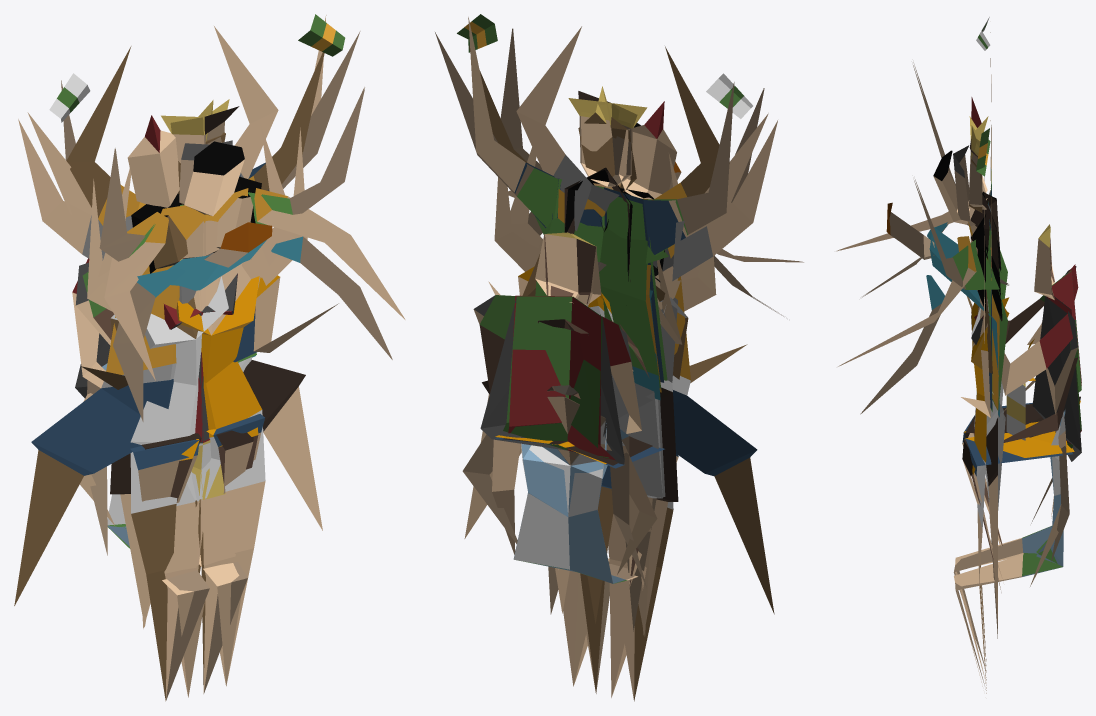
The model's file is crowd.glb.
3 renders of one model, left to right at view 1: azimuth 30°, elevation 25°; view 2: azimuth 150°, elevation 25°; view 3: azimuth 270°, elevation 25°, orthographic. The views are drawn at different scales.
Parts seen in each view (by area): view 1: hombre.009, hombre.003, mujer.009, mujer.008, hombre.015, hombre.012, mujer.006, mujer.003, hombre.014, hombre.008, hombre.007, mujer.007 (+4 smaller); view 2: hombre.003, hombre.009, hombre.010, hombre.000, hombre.005, mujer.005, mujer.007, hombre.008, hombre.014, hombre.007, mujer.008, mujer.009 (+4 smaller); view 3: hombre.007, hombre.000, hombre.014, hombre.012, hombre.015, hombre.005, mujer.007, mujer.009, mujer.005, hombre.003, hombre.010, mujer.006 (+4 smaller).
Part boxes in pixels (box(x1,y1,x2,y2)): hombre.009: box(14, 46, 324, 605); hombre.003: box(18, 26, 322, 627); mujer.009: box(176, 177, 338, 682); mujer.008: box(81, 193, 255, 699); hombre.015: box(104, 141, 405, 628); hombre.012: box(113, 222, 392, 421); mujer.006: box(87, 125, 293, 700); mujer.003: box(98, 127, 307, 695); hombre.014: box(99, 87, 364, 261); hombre.008: box(27, 14, 345, 371); hombre.007: box(75, 262, 264, 502); mujer.007: box(87, 363, 247, 700); hombre.003: box(464, 26, 777, 635); hombre.009: box(468, 45, 774, 623); hombre.010: box(435, 32, 752, 631); hombre.000: box(503, 233, 652, 590); hombre.005: box(479, 234, 649, 586); mujer.005: box(492, 319, 657, 695); mujer.007: box(462, 319, 646, 691); hombre.008: box(457, 14, 768, 492); hombre.014: box(500, 28, 764, 468); hombre.007: box(473, 232, 678, 587); mujer.008: box(522, 188, 747, 701); mujer.009: box(488, 221, 682, 697); hombre.007: box(962, 229, 1081, 589); hombre.000: box(962, 224, 1081, 578); hombre.014: box(913, 62, 1007, 509); hombre.012: box(860, 202, 1005, 510); hombre.015: box(836, 150, 1003, 540); hombre.005: box(964, 239, 1081, 585); mujer.007: box(953, 302, 1069, 689); mujer.009: box(961, 214, 990, 693); mujer.005: box(954, 302, 1066, 686); hombre.003: box(969, 74, 997, 626); hombre.010: box(969, 17, 997, 638); mujer.006: box(970, 191, 1008, 675).
Bounding box in the file's own units: 2.43 × 4.51 × 1.6.
